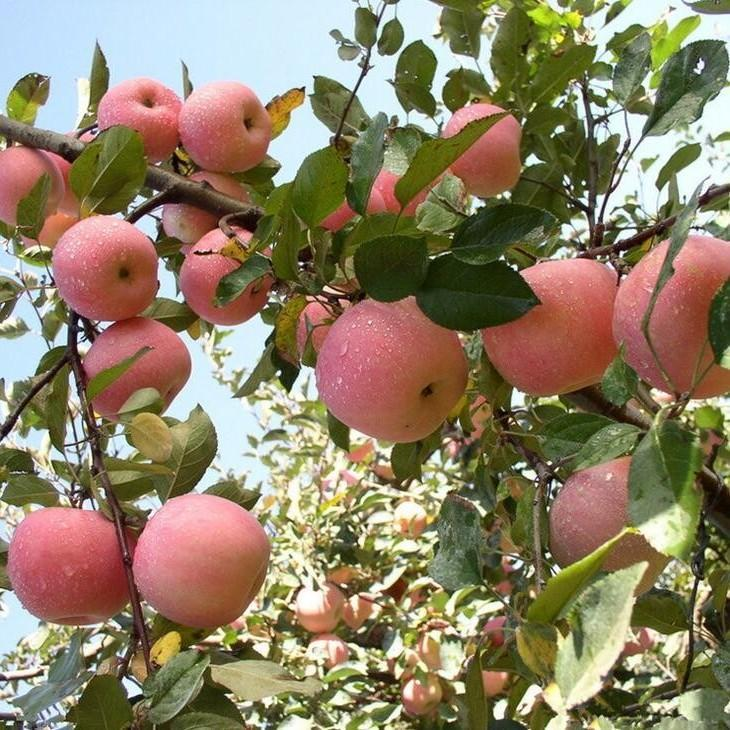apple: (316, 296, 468, 443), (482, 257, 620, 395), (613, 234, 728, 398), (131, 492, 269, 628), (548, 455, 683, 586), (5, 506, 135, 630), (49, 215, 159, 323), (77, 315, 187, 420), (177, 225, 272, 329), (437, 105, 521, 196), (179, 84, 270, 168), (96, 77, 180, 161)
